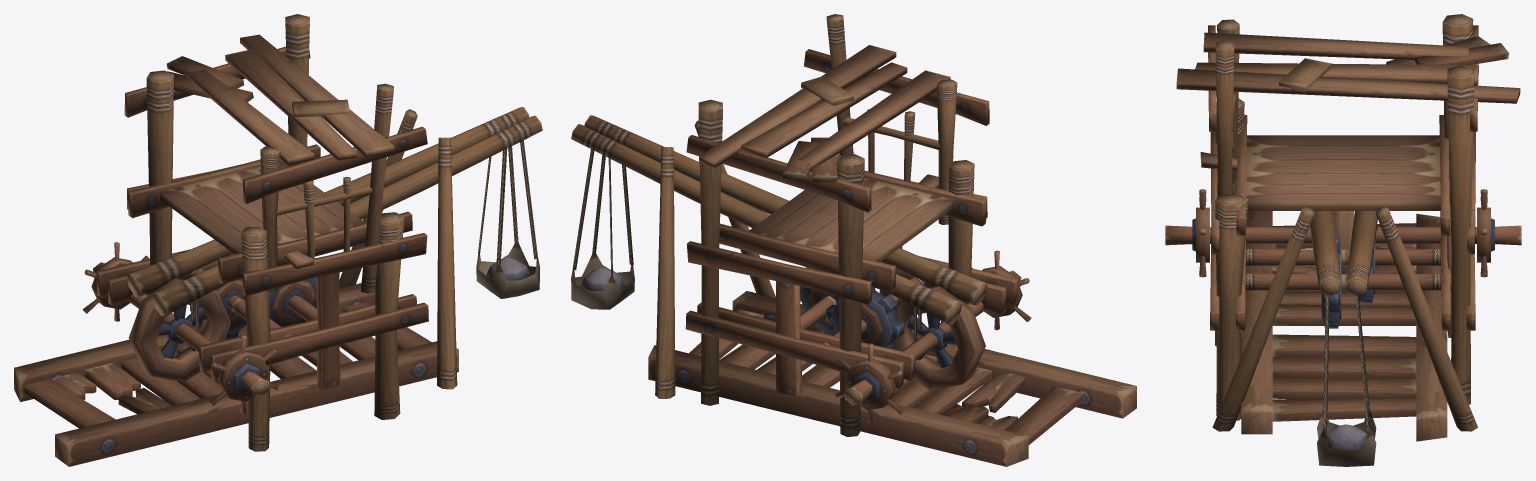
File: fstd_4_04.fbx
3 renders of one model, left to right at view 1: azimuth 30°, elevation 25°; view 2: azimuth 150°, elevation 25°; view 3: azimuth 270°, elevation 25°, orthographic. The views are drawn at different scales.
Visible parts, largest first — view 1: fstd_4_04; view 2: fstd_4_04; view 3: fstd_4_04.
Part boxes in pixels (x1=…): fstd_4_04: x1=14, y1=14, x2=542, y2=466; fstd_4_04: x1=571, y1=14, x2=1136, y2=466; fstd_4_04: x1=1165, y1=14, x2=1521, y2=466.
Size of the model in its own units: 1893 by 1176 by 1029.
